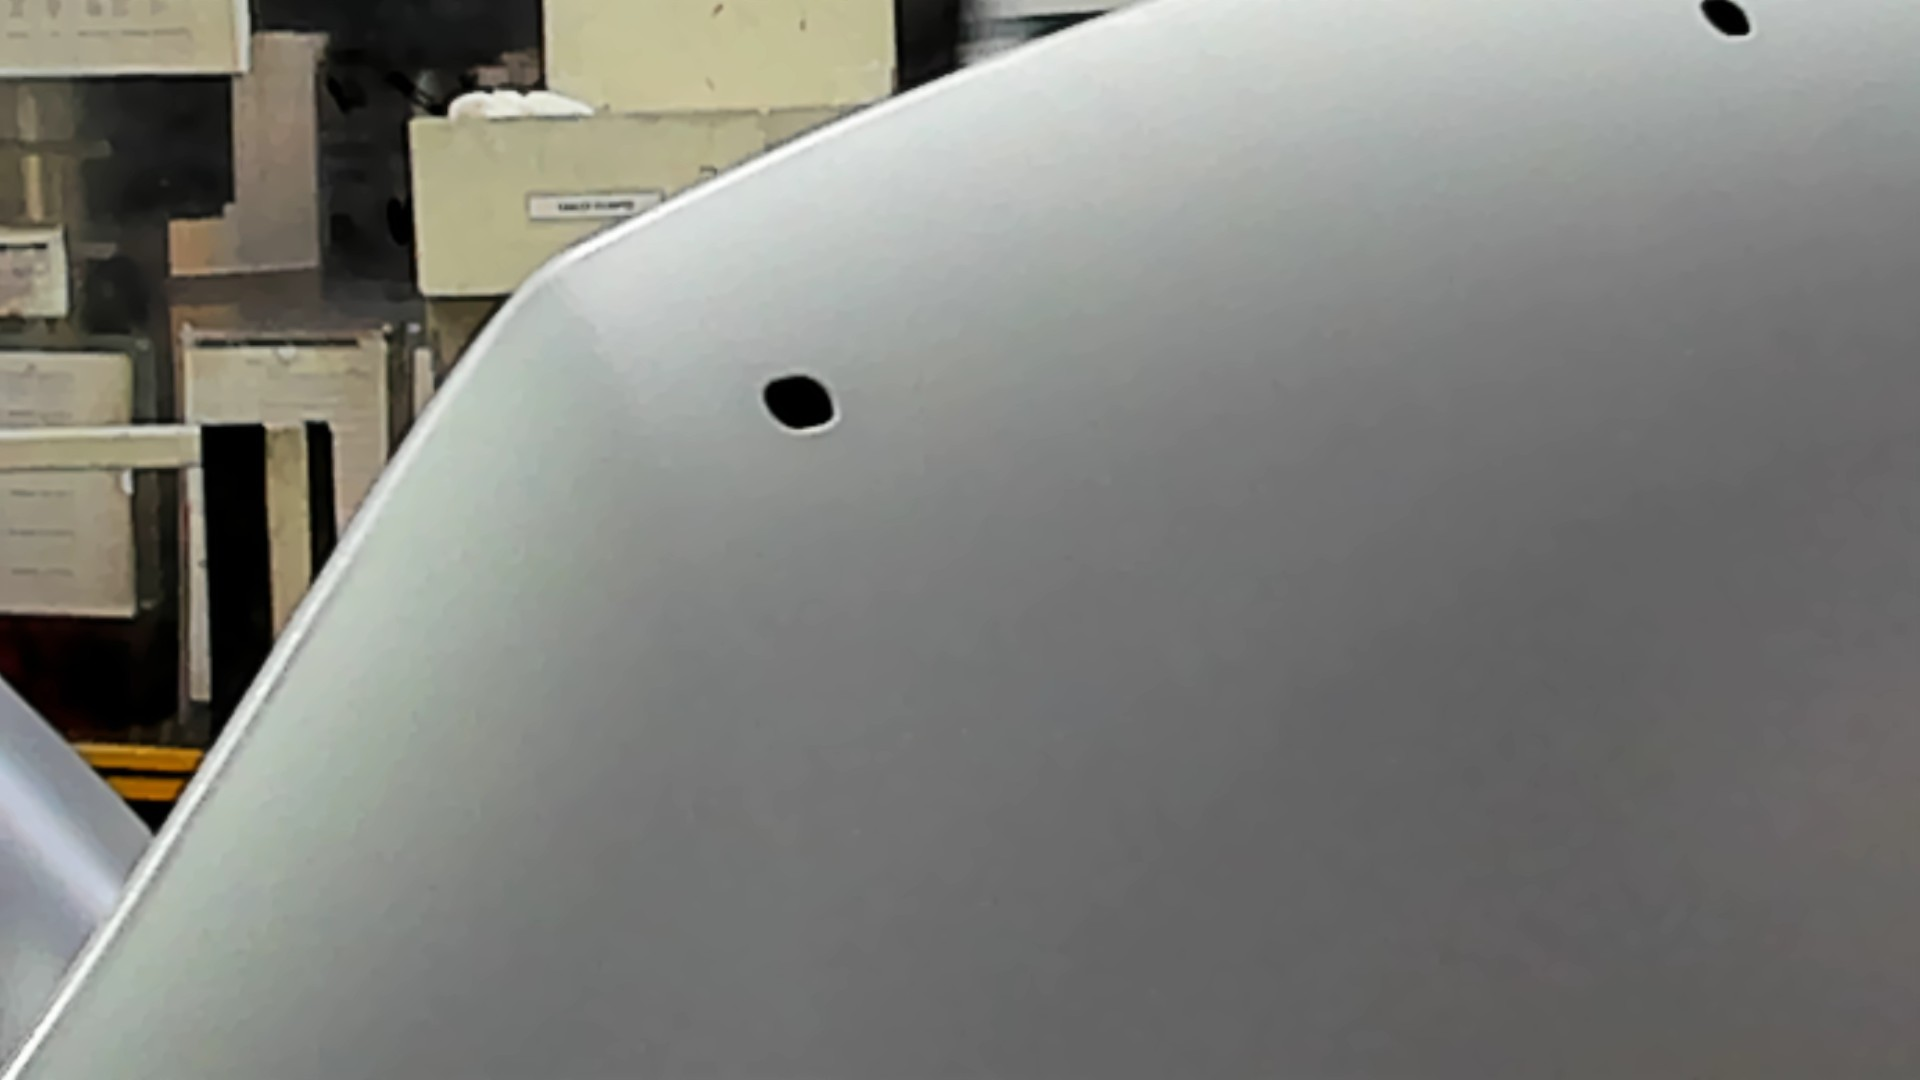amorfo: (760, 365, 843, 440), (1695, 1, 1760, 44)
